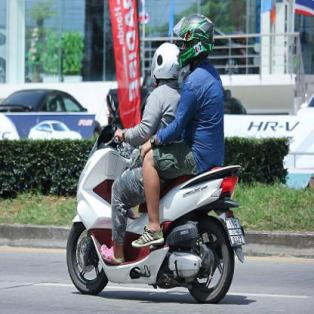Motocicleta: (65, 122, 242, 309)
